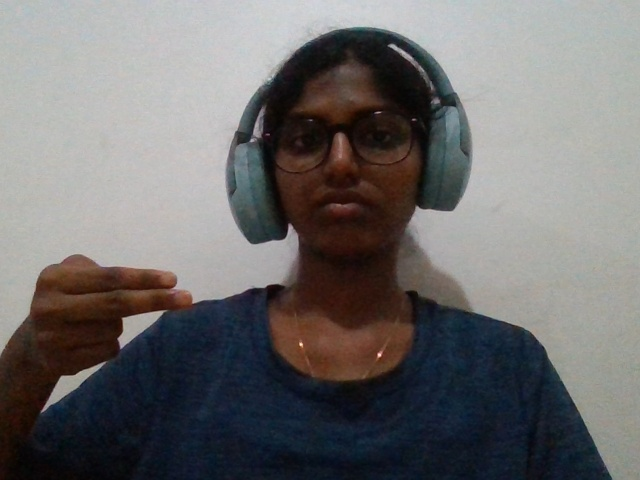H: (3, 233, 235, 395)
